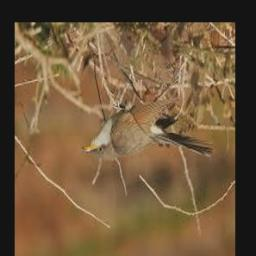Cuckoo: (80, 101, 212, 159)
